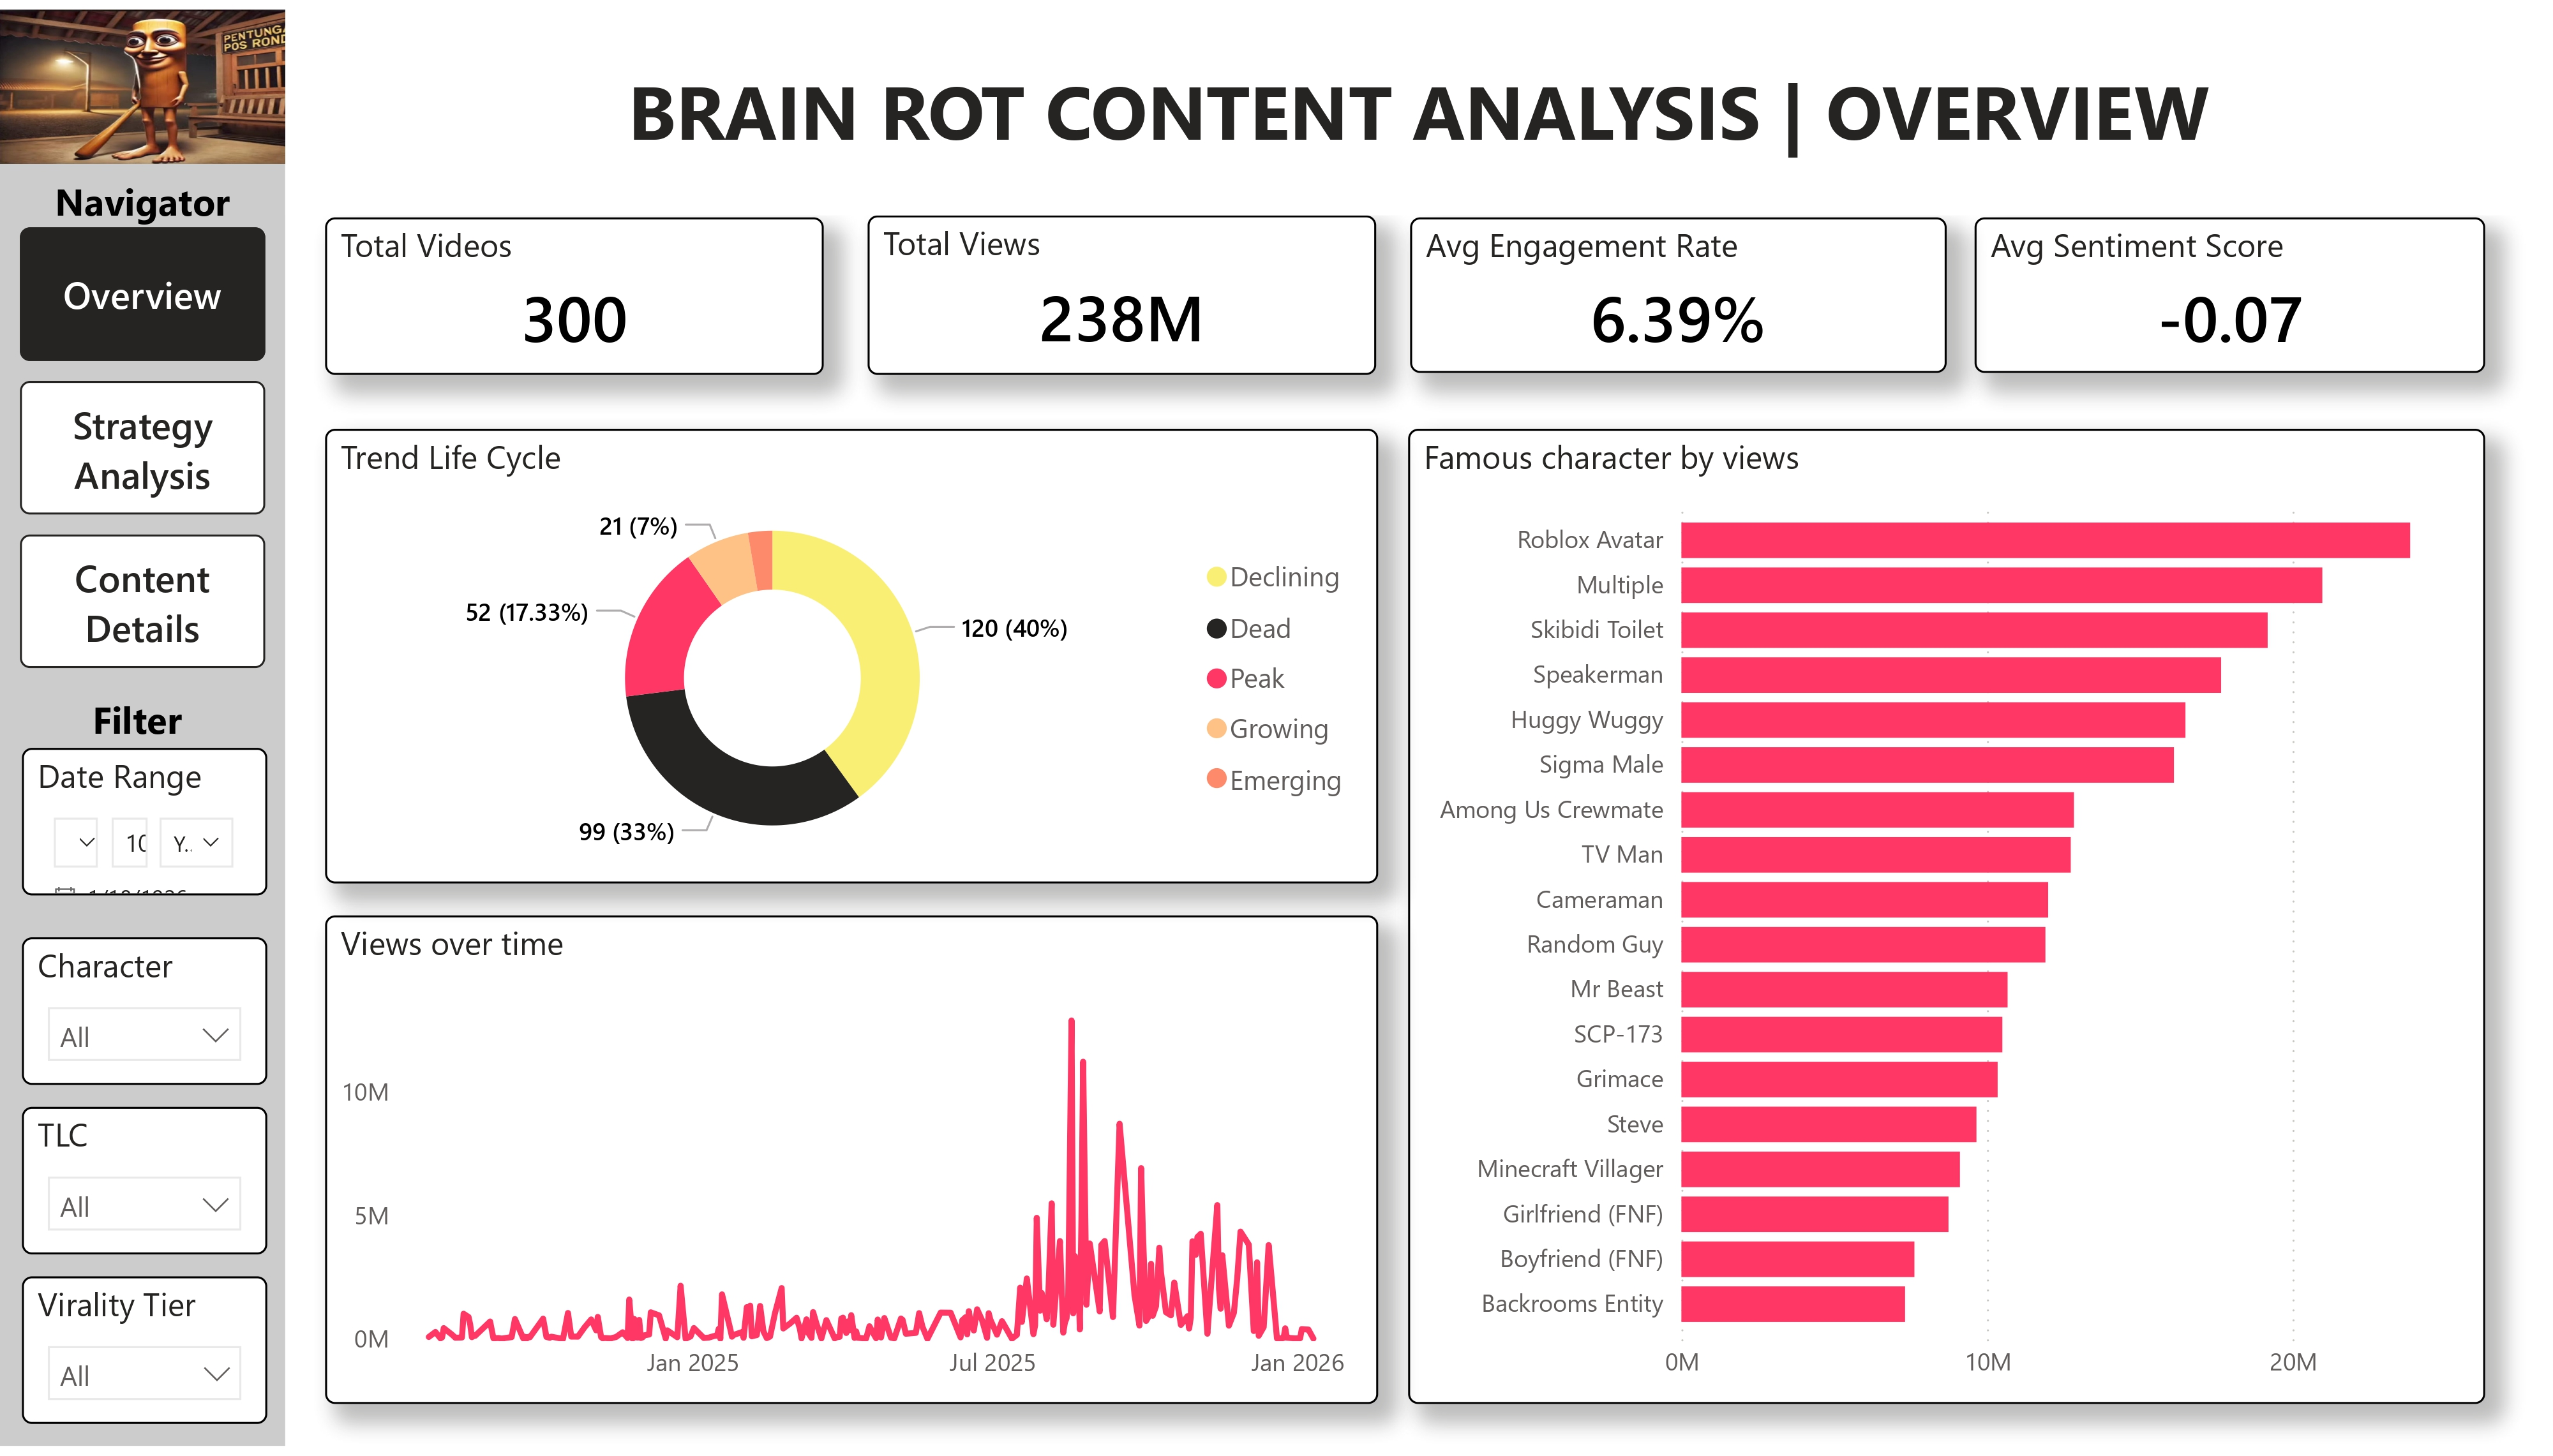

The dashboard page shown, as its layout file describes it:
{"tool":"powerbi","page":{"name":"Overview","canvas":[1280,720],"ordinal":0},"visuals":[{"type":"shape","box":[0,0,143.1,720],"z":0},{"type":"card","title":"Total Videos","fields":{"Values":["Dim_Performance.Total Video"]},"box":[162.5,103.8,250,78.8],"z":1000},{"type":"card","title":"Total Views","fields":{"Values":["Dim_Performance.Total_Views"]},"box":[435.4,103.2,255,79.6],"z":2000},{"type":"card","title":"Avg Engagement Rate","fields":{"Values":["Dim_Performance.Engagement Rate"]},"box":[706.6,104.5,268.7,78.4],"z":3000},{"type":"card","title":"Avg Sentiment Score","fields":{"Values":["Dim_Performance.Avg Sentiment Score"]},"box":[990.2,104.5,256.3,78.4],"z":4000},{"type":"donutChart","title":"Trend Life Cycle","fields":{"Category":["Dim_Video.Trend_Life_Cycle"],"Y":["Dim_Performance.Video_ID"]},"box":[162.5,210,527.5,227.5],"z":5000},{"type":"clusteredBarChart","title":"Famous character by views","fields":{"Y":["Dim_Performance.Total_Views"],"Category":["Dim_Video.Main_Character"]},"box":[705.7,210,540,488.6],"z":6000},{"type":"lineChart","title":"Views over time","fields":{"Category":["Dim_Video.Upload_Date"],"Y":["Dim_Performance.Total_Views"]},"box":[162.5,453.8,527.5,245],"z":7000},{"type":"slicer","title":"Date Range","fields":{"Values":["Dim_Video.Upload_Date"]},"box":[11.1,370.3,122.9,74.3],"z":8000},{"type":"slicer","title":"Character","fields":{"Values":["Dim_Video.Main_Character"]},"box":[11.1,464.6,122.9,74.3],"z":9000},{"type":"slicer","title":"TLC","fields":{"Values":["Dim_Video.Trend_Life_Cycle"]},"box":[11.1,550.3,122.9,74.3],"z":10000},{"type":"slicer","title":"Virality Tier","fields":{"Values":["Dim_Performance.Virality Tier"]},"box":[10.8,634.7,123.3,74.4],"z":11000},{"type":"textbox","box":[35.6,338.1,65.6,43.3],"z":12000},{"type":"pageNavigator","box":[10.2,109.2,123.3,223.3],"z":13000},{"type":"textbox","box":[143.3,20,1136.7,83.3],"z":14000},{"type":"textbox","box":[4,77.6,135,44],"z":15000},{"type":"image","box":[0,0,142.9,77.1],"z":16000}]}

Visuals, with their boxes in screenshot pixels (x1, y1, x2, y2), scaled from the page's 1280x720 canvas onto the 2553x1456 screenshot:
shape: (0,0,285,1455)
"Total Videos" card: (324,210,823,369)
"Total Views" card: (869,209,1377,369)
"Avg Engagement Rate" card: (1409,211,1945,370)
"Avg Sentiment Score" card: (1975,211,2486,370)
"Trend Life Cycle" donutChart: (324,425,1376,885)
"Famous character by views" clusteredBarChart: (1407,425,2485,1413)
"Views over time" lineChart: (324,917,1376,1413)
"Date Range" slicer: (22,749,267,899)
"Character" slicer: (22,940,267,1090)
"TLC" slicer: (22,1113,267,1263)
"Virality Tier" slicer: (22,1284,267,1434)
textbox: (71,684,202,771)
pageNavigator: (20,221,266,672)
textbox: (286,40,2552,209)
textbox: (8,157,277,246)
image: (0,0,285,156)
